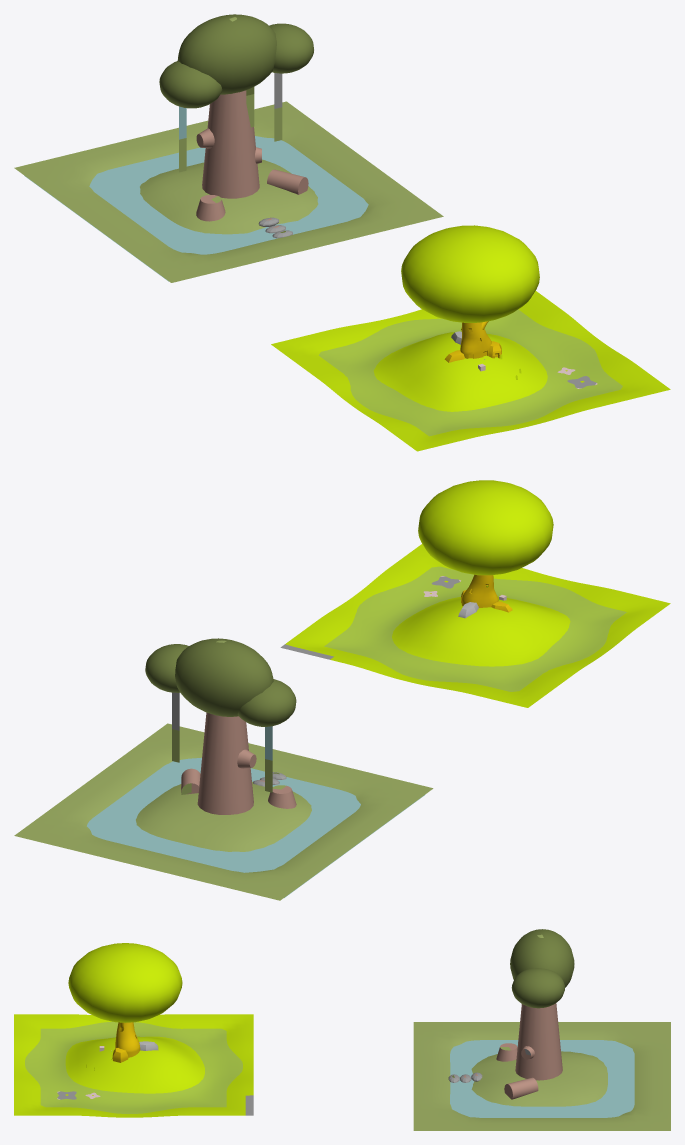
Rendered from EM_BLOCKING.fbx.
3 renders of one model, top to bottom at view 1: azimuth 30°, elevation 25°; view 2: azimuth 150°, elevation 25°; view 3: azimuth 270°, elevation 25°, orthographic. The views are drawn at different scales.
Parts seen in each view (by area): view 1: EM_BLOCKING; view 2: EM_BLOCKING; view 3: EM_BLOCKING.
Boxes of the visible parts, <box> form: EM_BLOCKING: <box>14,14,670,451</box>; EM_BLOCKING: <box>14,480,670,900</box>; EM_BLOCKING: <box>14,929,670,1130</box>.
Size of the model in its own units: 127 by 81.16 by 323.
